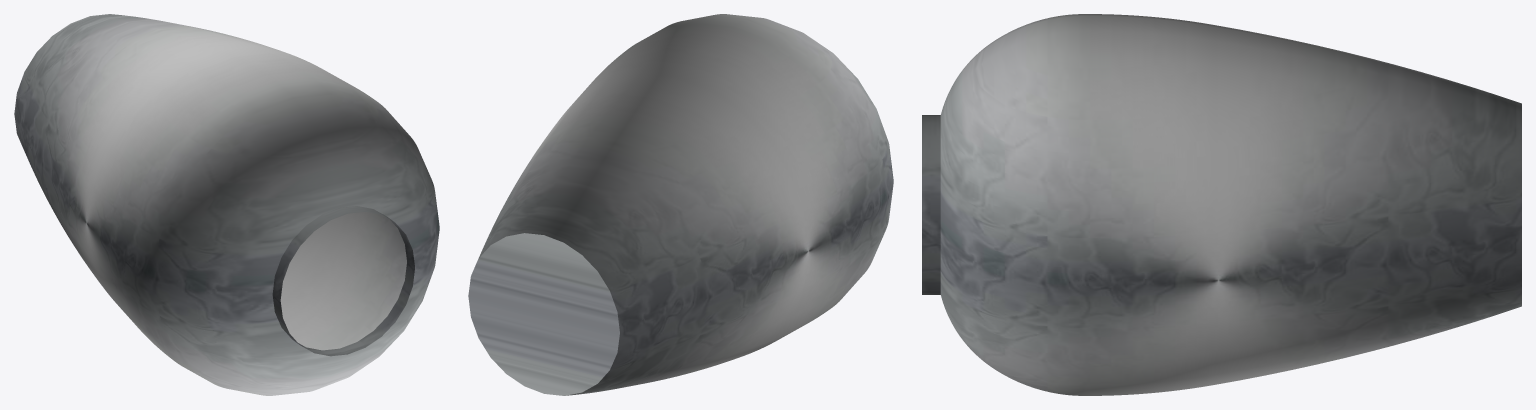
Rendered from model_scale.obj.
3 views of the same model, side by side, from view 1: azimuth 30°, elevation 25°; view 2: azimuth 150°, elevation 25°; view 3: azimuth 270°, elevation 25° (orthographic). The views are drawn at different scales.
Visible parts, largest first — view 1: mesh1_mesh1-geometry; view 2: mesh1_mesh1-geometry; view 3: mesh1_mesh1-geometry.
Part boxes in pixels (x1,y1,x2,y2): mesh1_mesh1-geometry: (14, 14, 439, 395); mesh1_mesh1-geometry: (468, 14, 893, 395); mesh1_mesh1-geometry: (922, 14, 1521, 395).
Bounding box in the file's own units: 0.0717 × 0.0717 × 0.1122.
